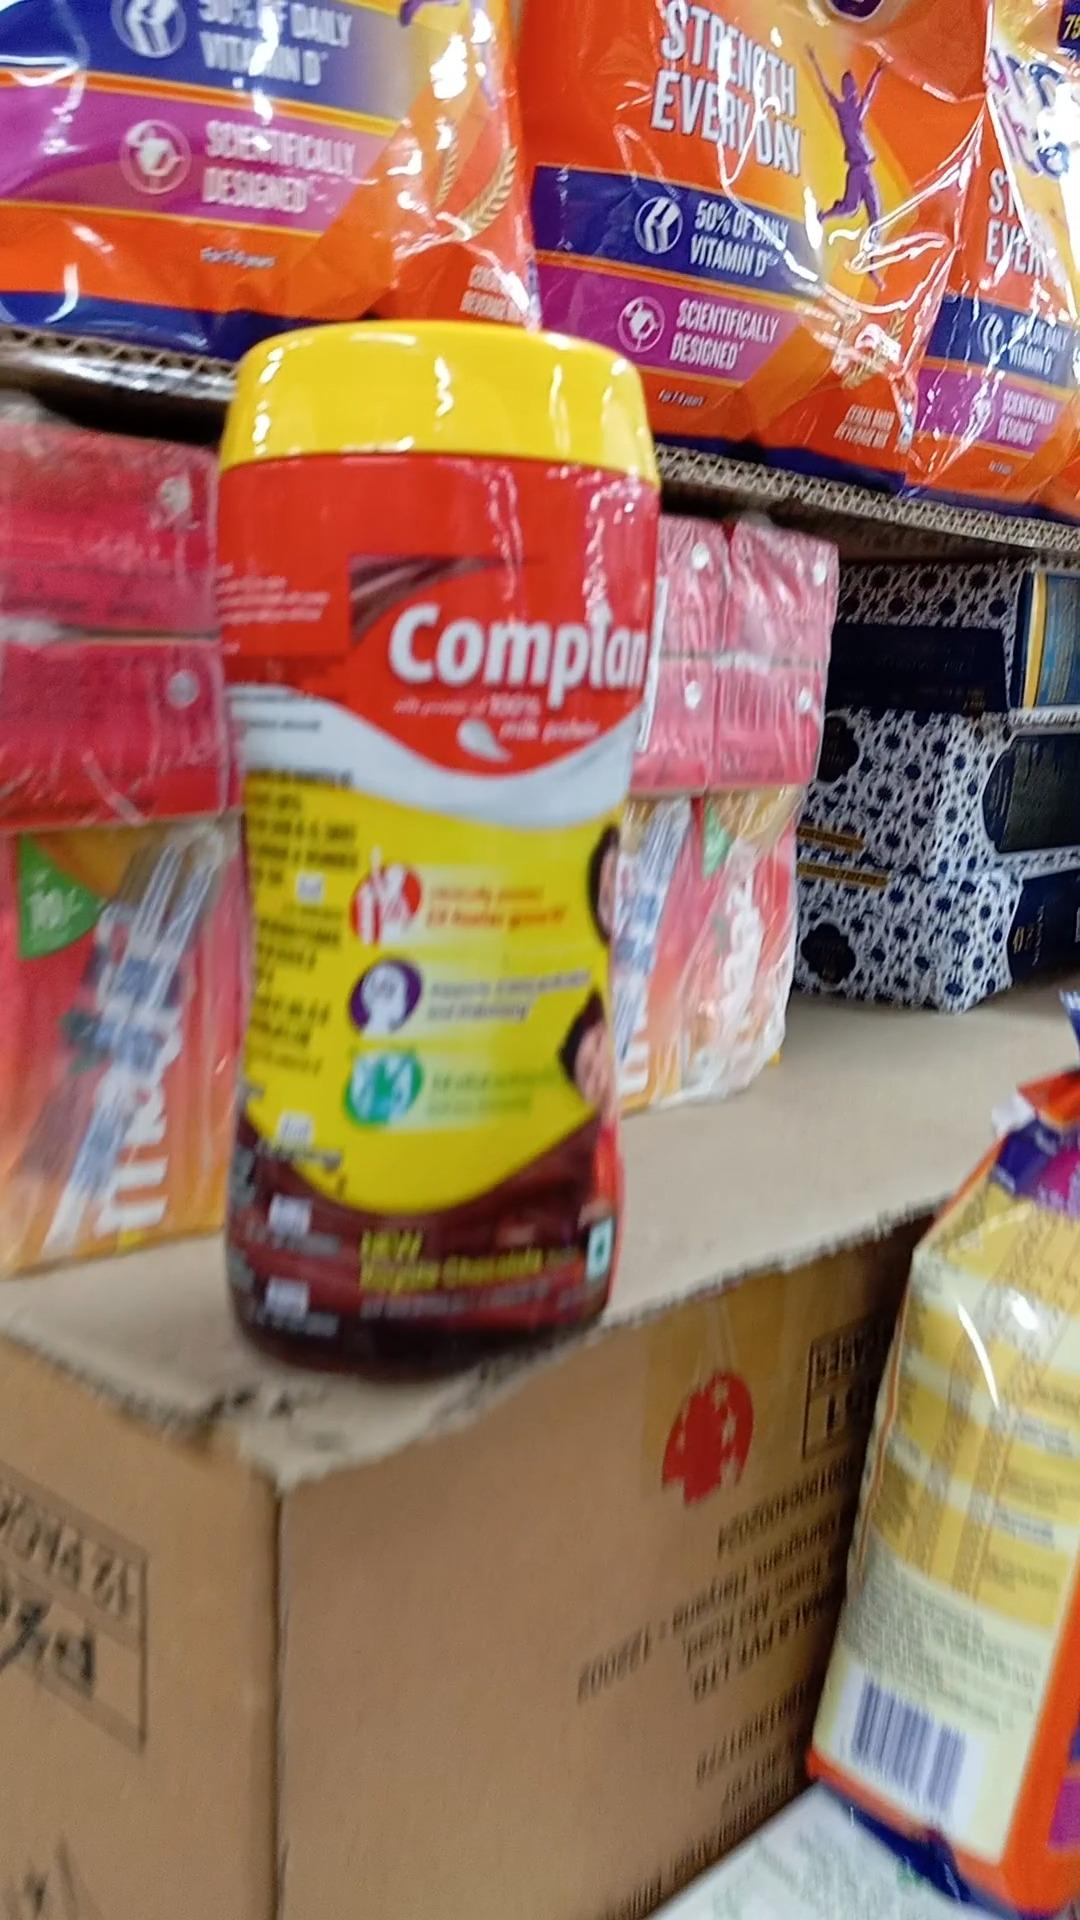COMPLAN_CHOCOLATE_200_GMS_JAR: (222, 323, 628, 1336)
